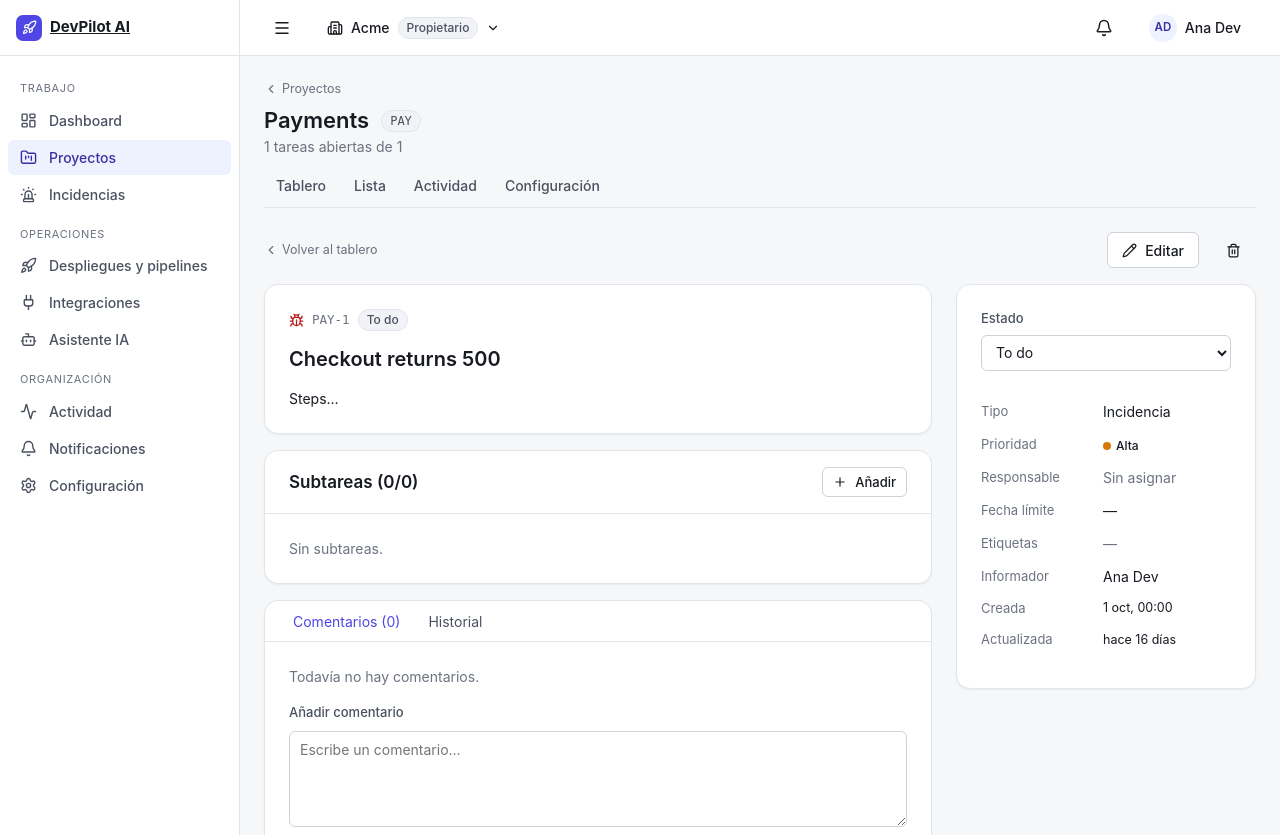
Test: work item detail › sends the version and explains a concurrent edit conflict
Click the button "Editar".
click(1153, 250)  # box [1107,232,1199,268]
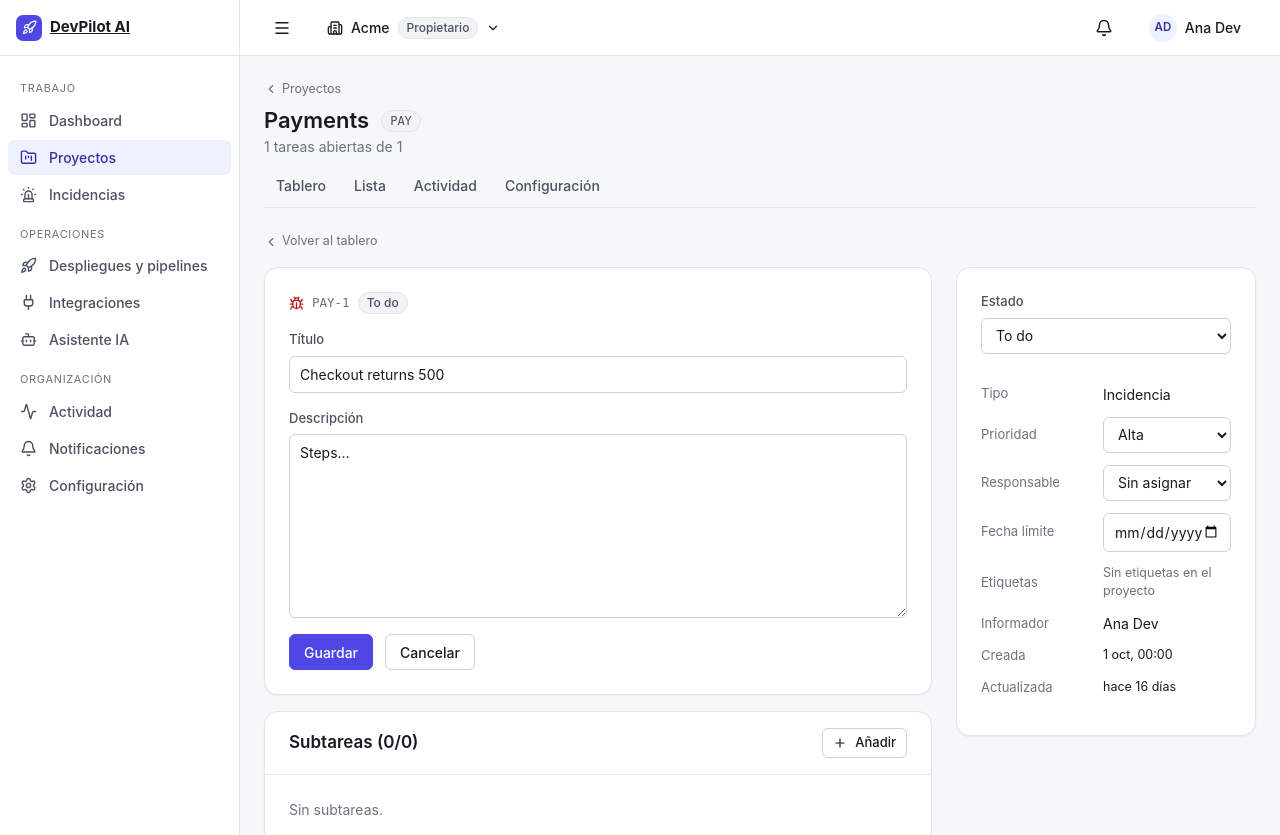
Replace the text in the field labelled "Título" with "New title" at (598, 374), box [289,356,907,392]
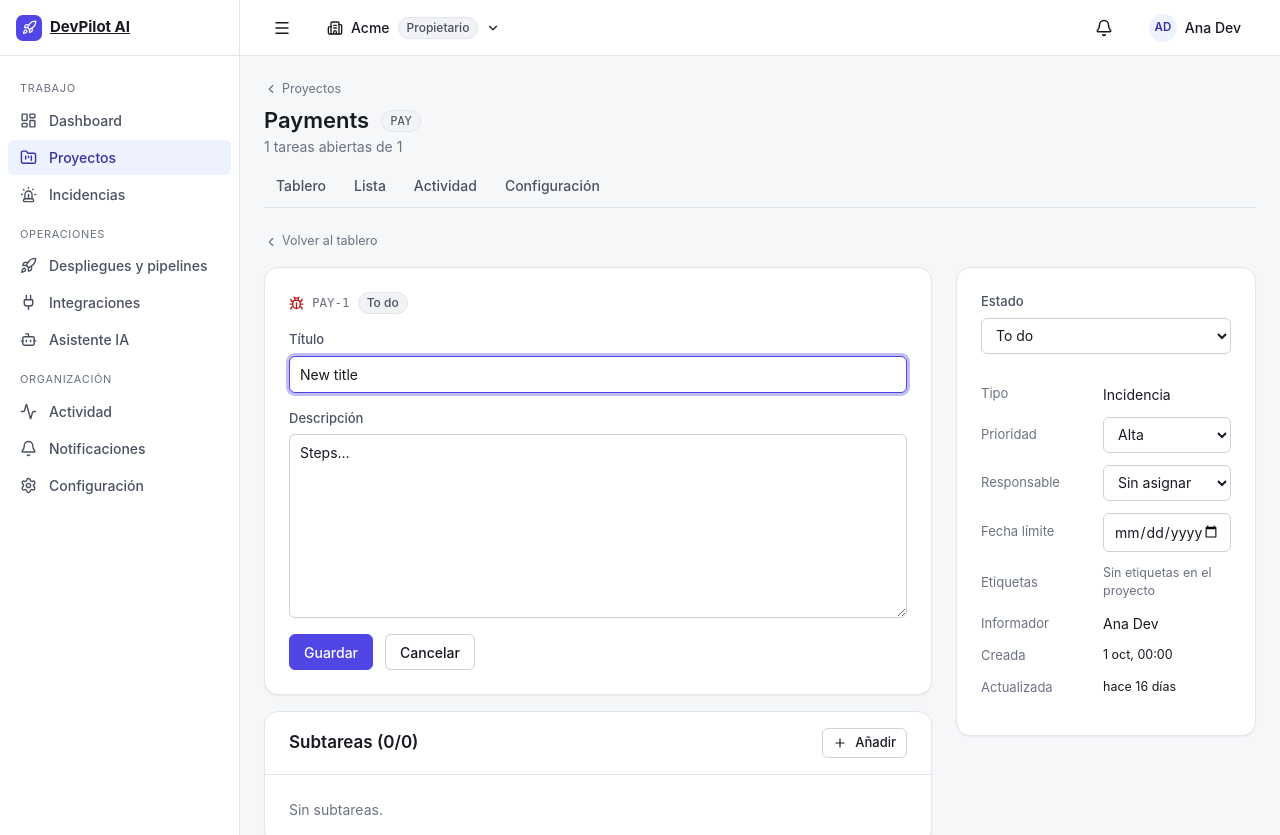
Click the button "Guardar".
click(331, 652)  # box [289,634,373,670]
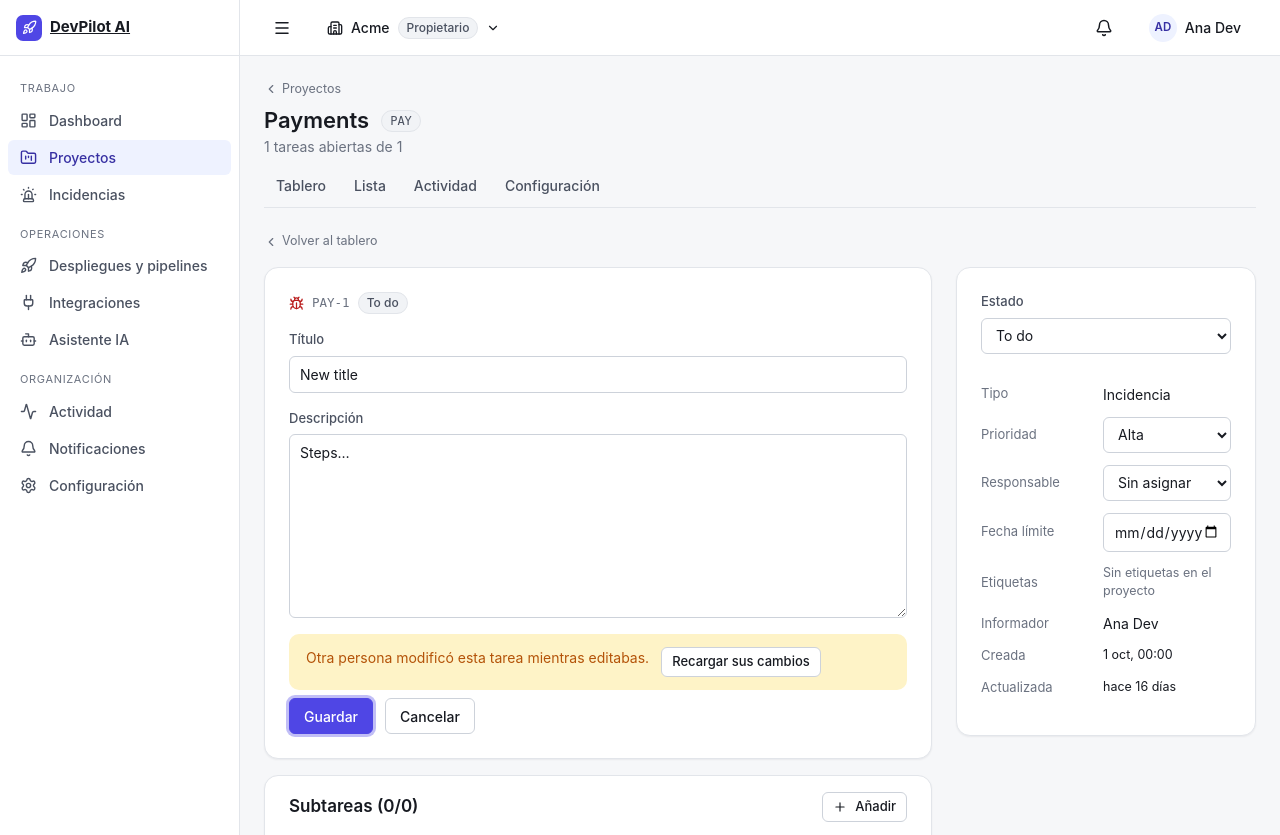
Expected: the text "Otra persona modificó esta tarea mientras editabas. Recargar sus cambios" is shown, [289,634,907,690]
